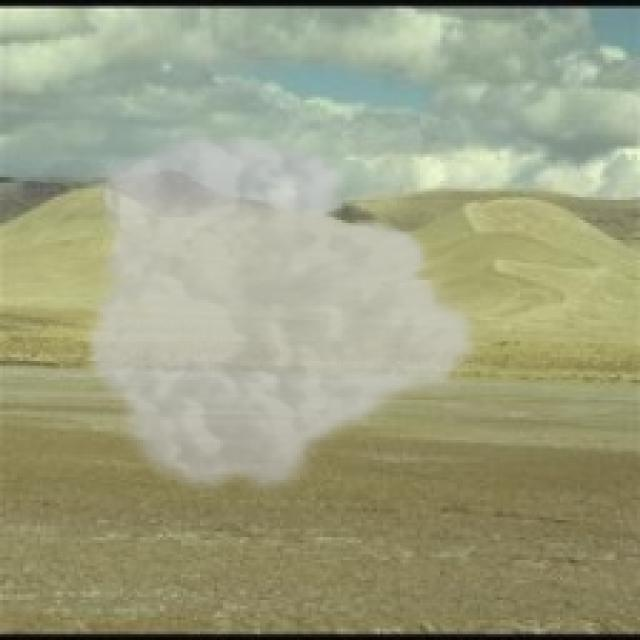smoke: (80, 126, 486, 503)
